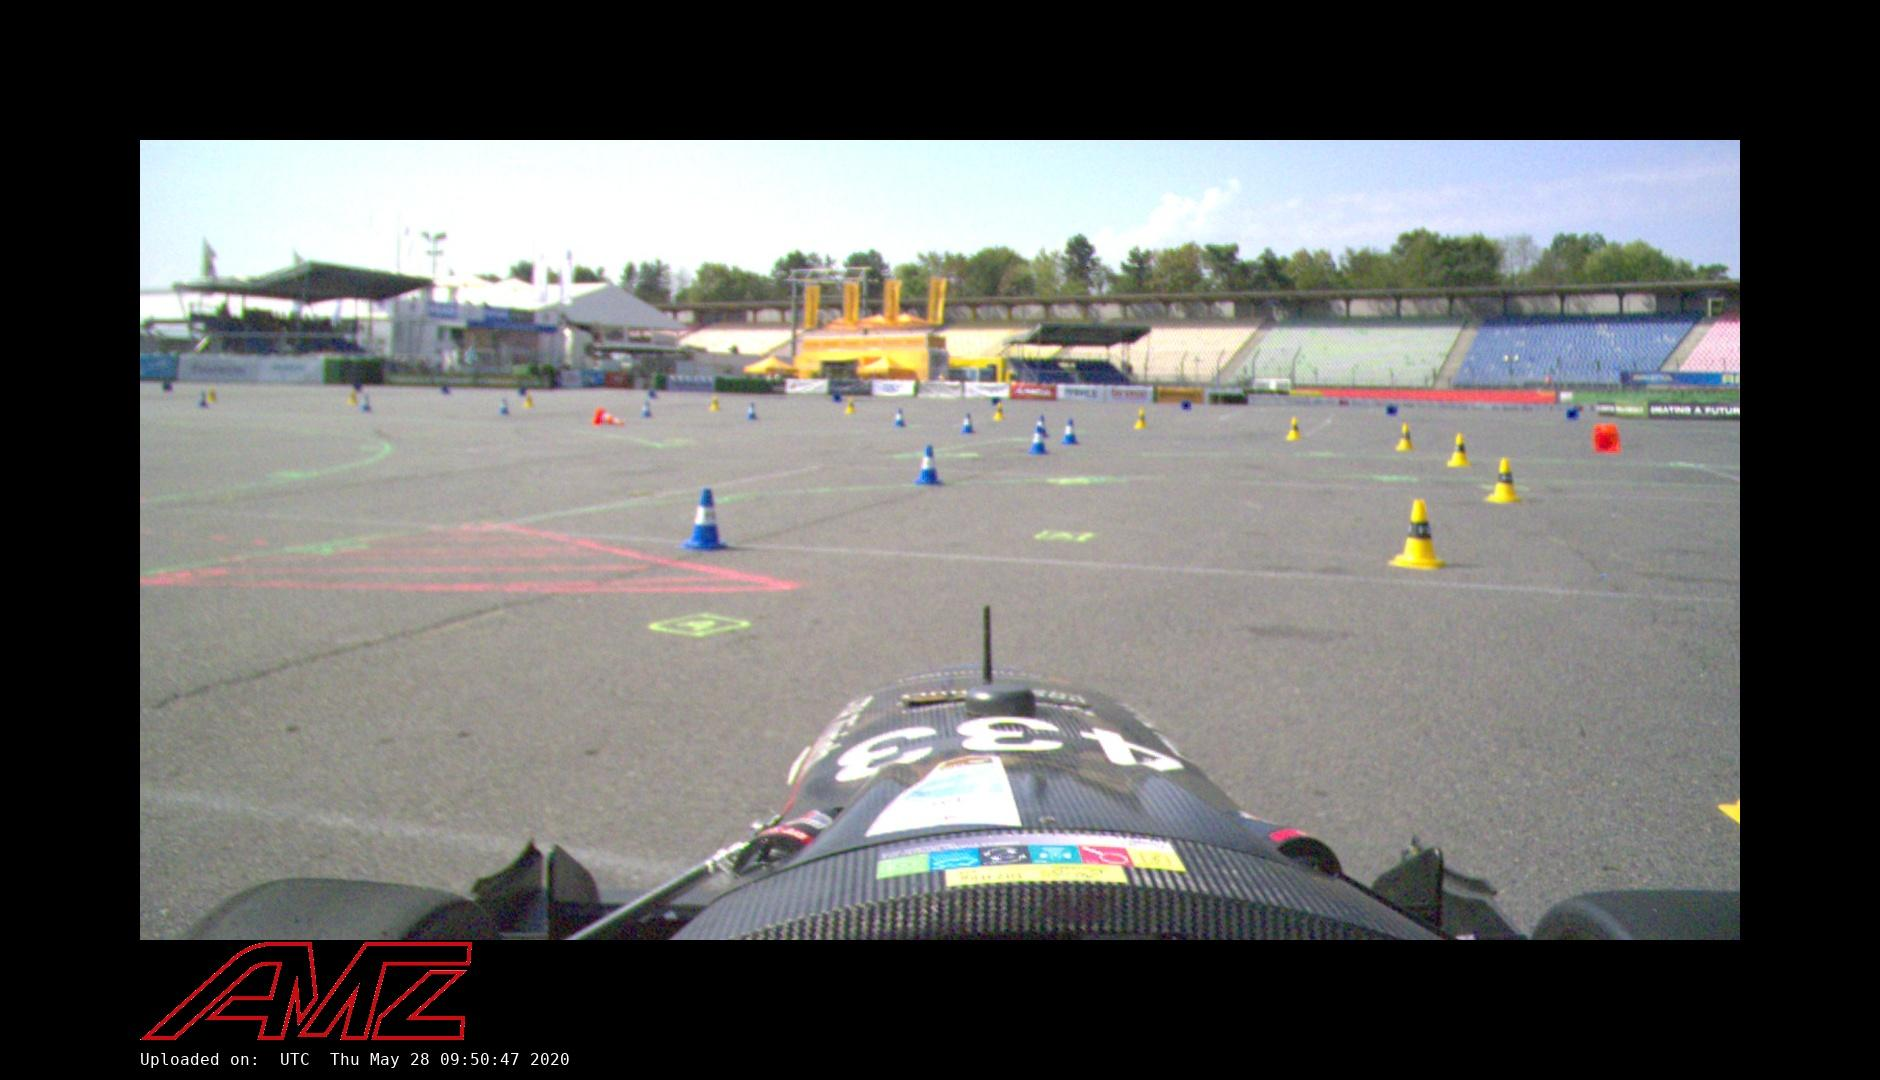blue_cone: (680, 486, 730, 552), (914, 444, 943, 486), (1027, 426, 1048, 455), (1060, 419, 1078, 444), (1033, 415, 1050, 439), (959, 412, 977, 433), (742, 402, 758, 421), (891, 408, 906, 428), (639, 399, 653, 419), (360, 395, 373, 413), (497, 398, 510, 415), (196, 391, 208, 408)
orange_cone: (1591, 424, 1620, 453), (591, 407, 626, 428)
yellow_cone: (1387, 497, 1446, 571), (1485, 457, 1524, 504), (1446, 433, 1475, 468), (1395, 422, 1418, 452), (1283, 415, 1303, 441), (1132, 407, 1148, 430), (992, 402, 1006, 421), (843, 397, 857, 413), (207, 386, 218, 403), (523, 393, 535, 410), (708, 397, 720, 411), (347, 389, 358, 406)
